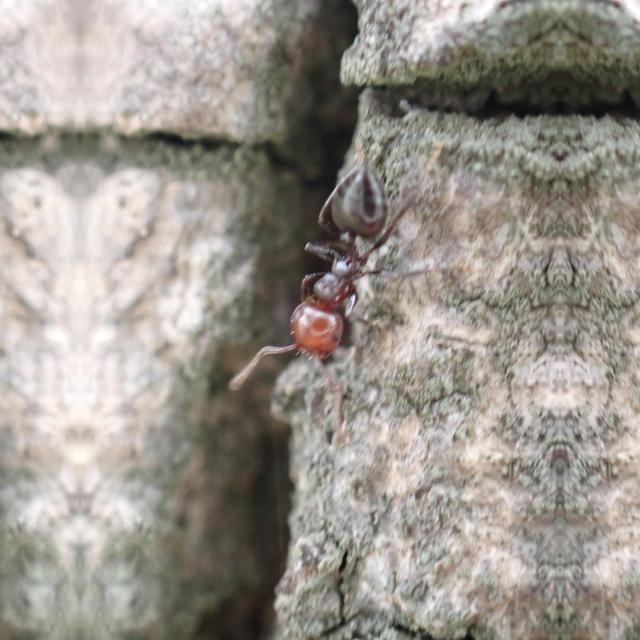Crematogaster: (258, 152, 427, 384)
